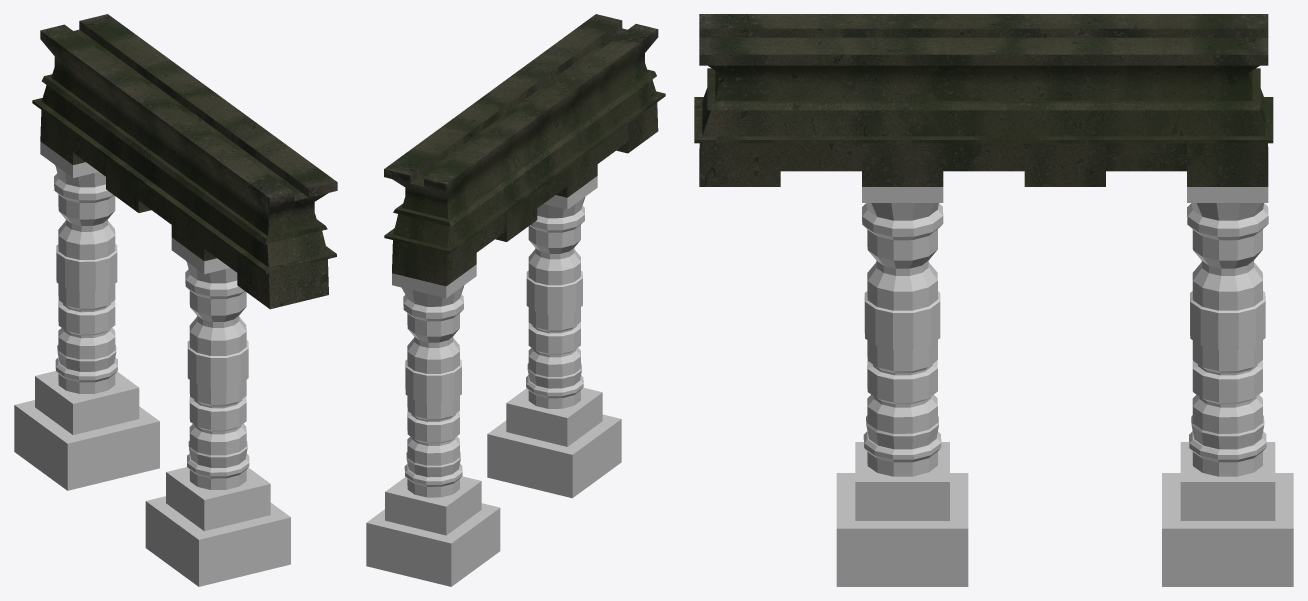
Rendered from ruin01.fbx.
3 views of the same model, side by side, from view 1: azimuth 30°, elevation 25°; view 2: azimuth 150°, elevation 25°; view 3: azimuth 270°, elevation 25° (orthographic). The views are drawn at different scales.
Parts seen in each view (by area): view 1: pCube11; view 2: pCube11; view 3: pCube11.
Boxes of the visible parts, x1,y1,x2,y2 form: pCube11: [14, 14, 337, 586]; pCube11: [366, 14, 665, 586]; pCube11: [694, 14, 1293, 586].
Size of the model in its own units: 116 by 509 by 525.
